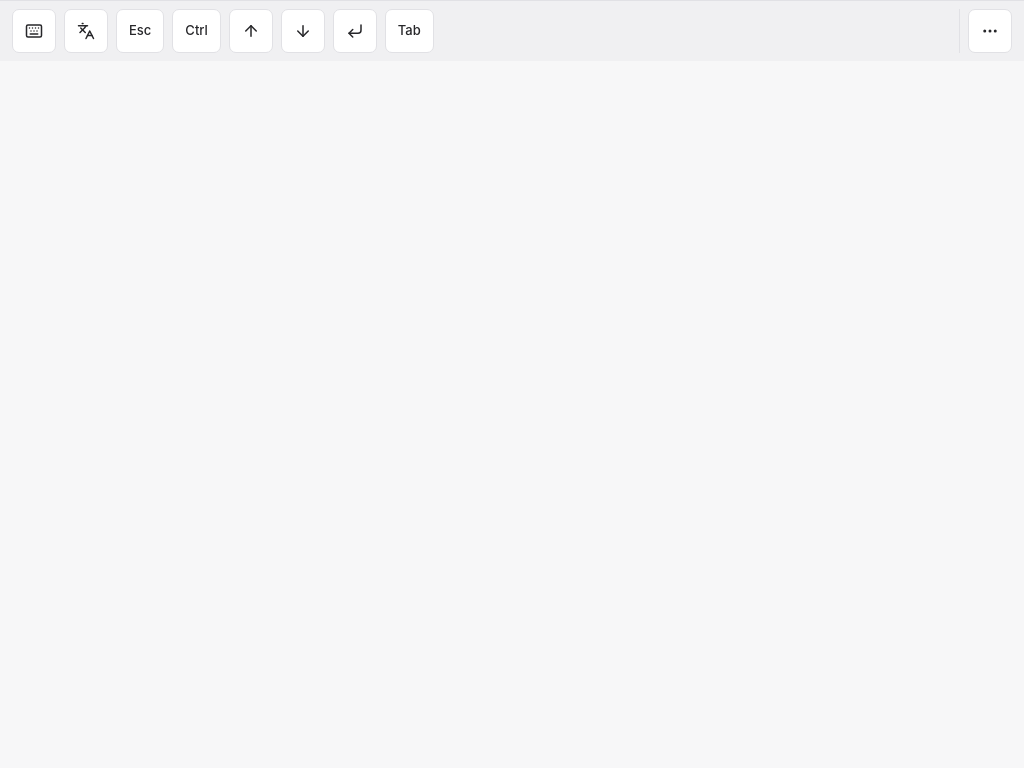
Scenario: KeyboardToolbar › Main row layout › More key aria-expanded changes when clicked
Click the button named "Extra keys": (990, 31) x1=968 y1=9 x2=1012 y2=53
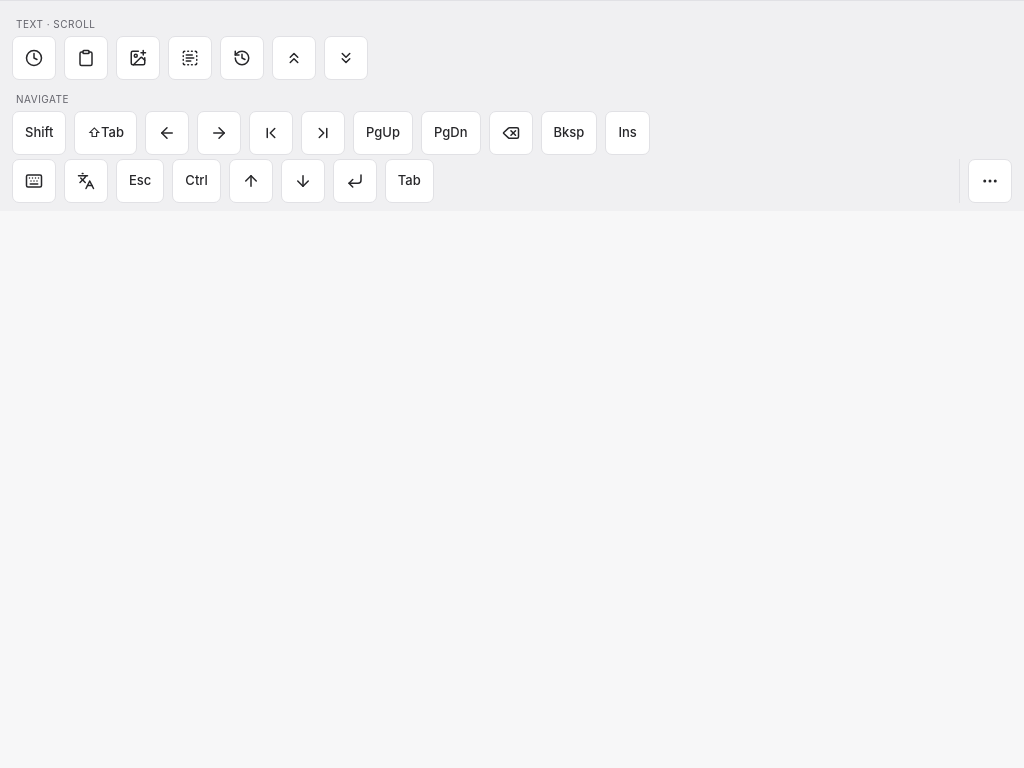
Now the button named "Extra keys" is expanded
Click the button named "Extra keys": (990, 181) x1=968 y1=159 x2=1012 y2=203
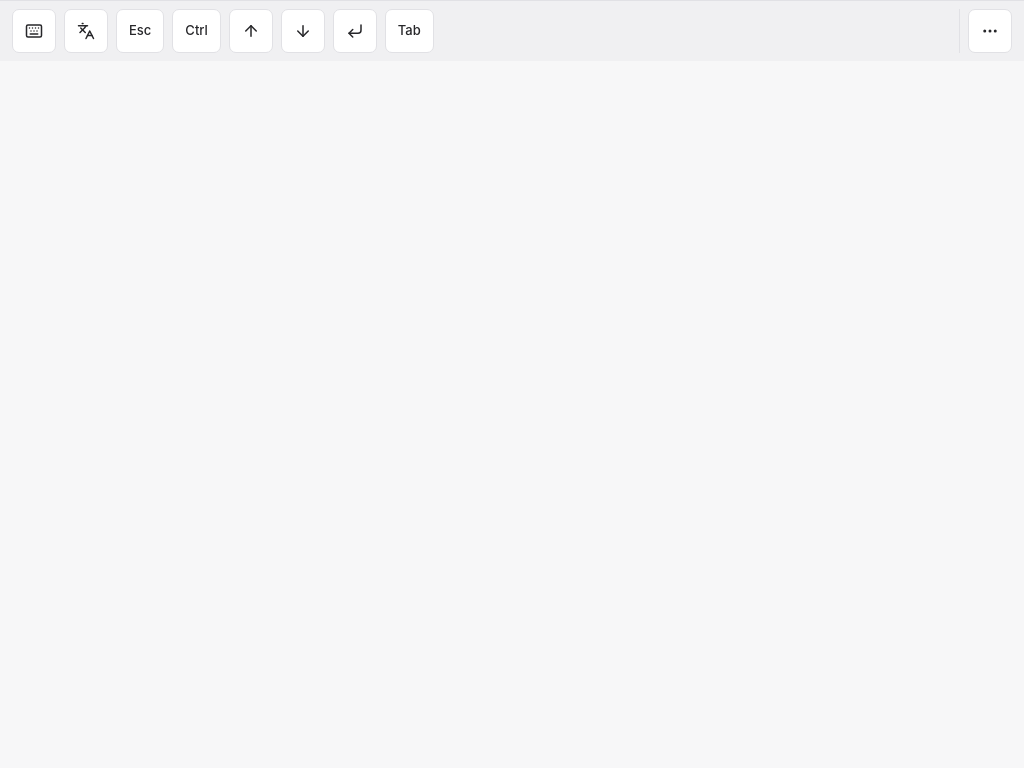
Now the button named "Extra keys" is collapsed, box x1=968 y1=9 x2=1012 y2=53
